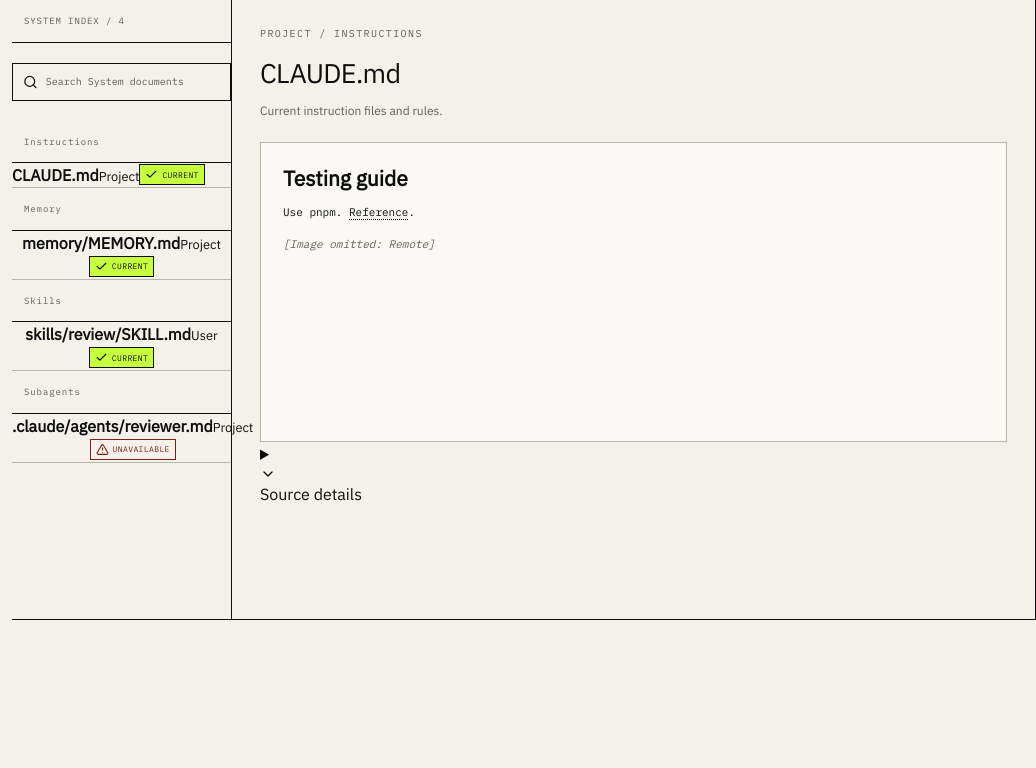
Test case: Claude System browser › searches document names, scopes and displayed contents, with highlighted previews
In the search field labelled "Search System documents": [129, 82] box [38, 66, 220, 97], type "keyboard"
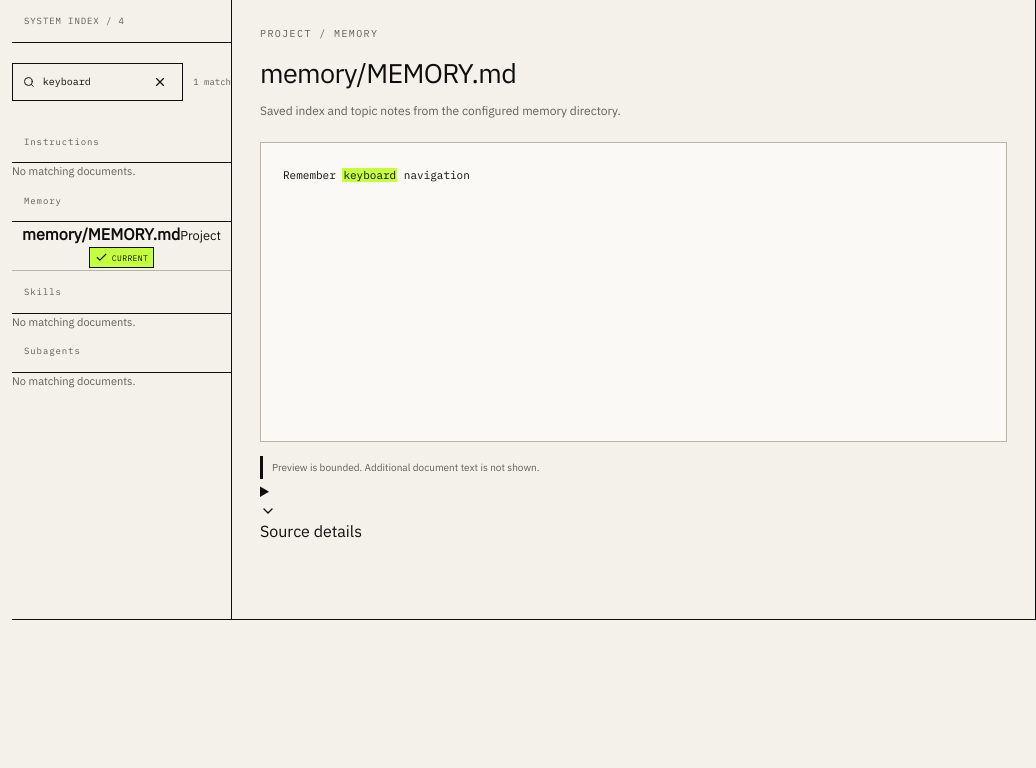
Check: the message reads "1 match", box [193, 75, 231, 88]
Check: the element named "memory/MEMORY.md preview" is shown, box [260, 142, 1007, 442]
Check: the text "keyboard" is shown, box [342, 168, 397, 182]
Replace the text in the search field named "Search System documents" with "does not exist": [91, 82] box [35, 66, 148, 97]
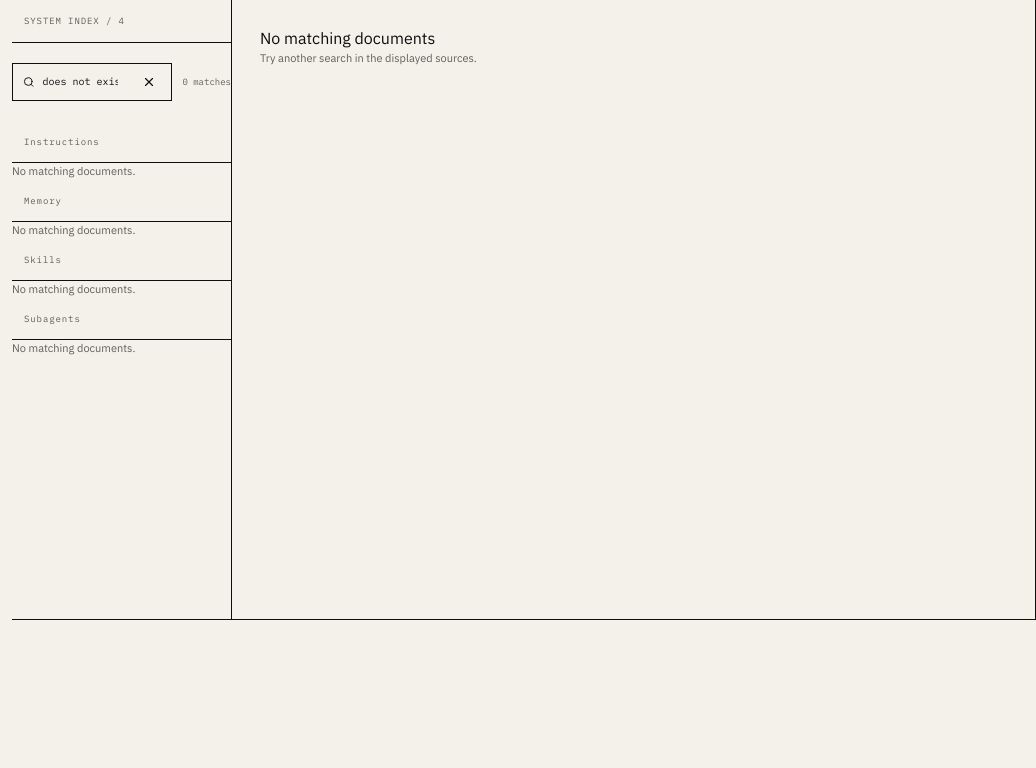
Check: the heading "No matching documents" is shown, box [260, 28, 435, 48]
